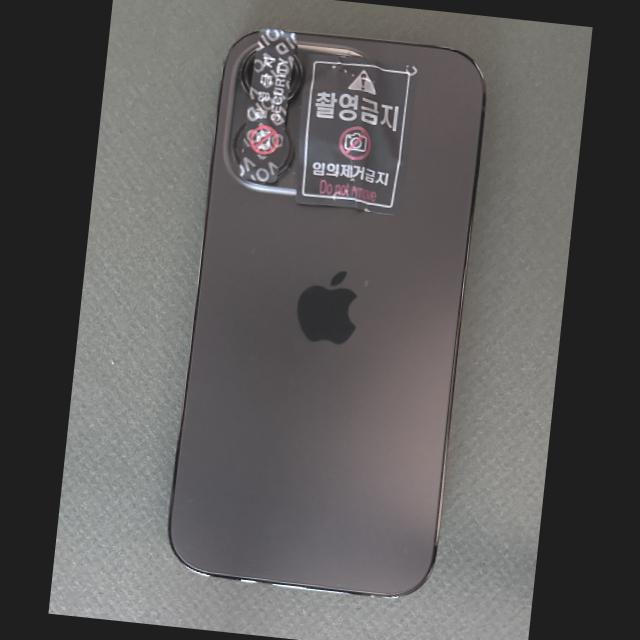lens: (243, 50, 257, 92), (235, 122, 247, 164)
phone: (168, 27, 484, 597)
sticker: (294, 54, 418, 215), (238, 28, 298, 183)
